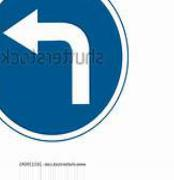left: (1, 1, 129, 140)
